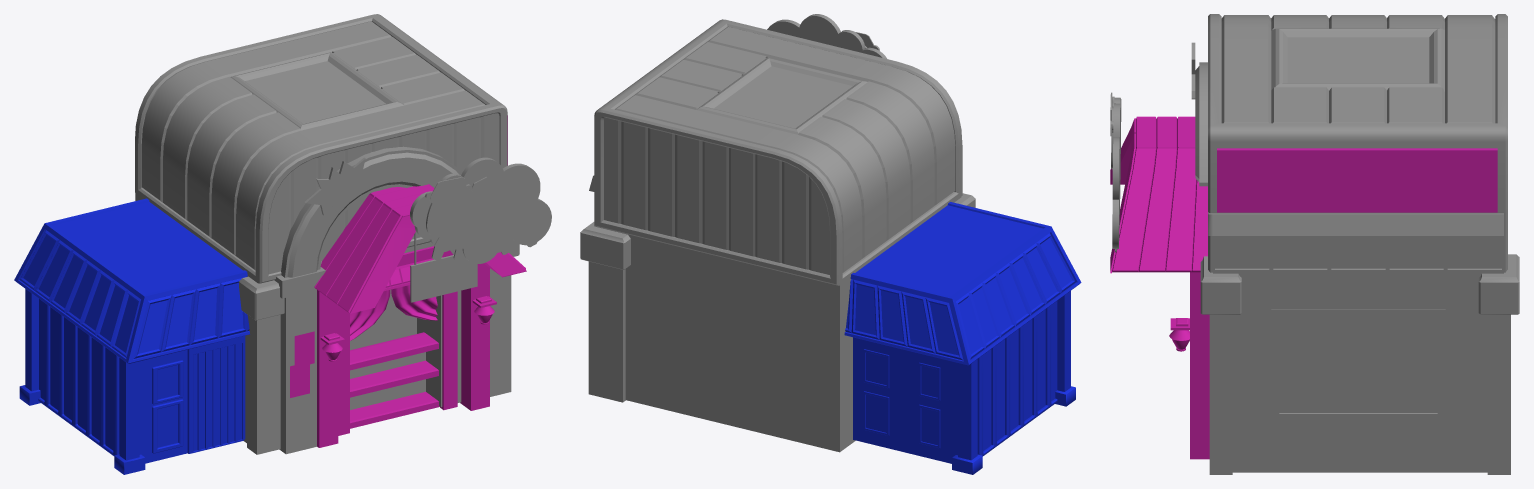
The model's file is GeneralStore01.fbx.
The picture shows the model from 3 angles, left to right: view 1: azimuth 30°, elevation 25°; view 2: azimuth 150°, elevation 25°; view 3: azimuth 270°, elevation 25°; orthographic projection. The views are drawn at different scales.
Visible parts, largest first — view 1: 01, 03, 02; view 2: 01, 03; view 3: 01, 02.
Boxes of the visible parts, x1,y1,x2,y2 form: 01: [135, 14, 551, 454]; 03: [14, 198, 249, 474]; 02: [290, 115, 526, 447]; 01: [580, 14, 975, 452]; 03: [844, 202, 1081, 474]; 01: [1110, 14, 1519, 474]; 02: [1110, 116, 1497, 459].
Size of the model in its own units: 528 by 384 by 413.
